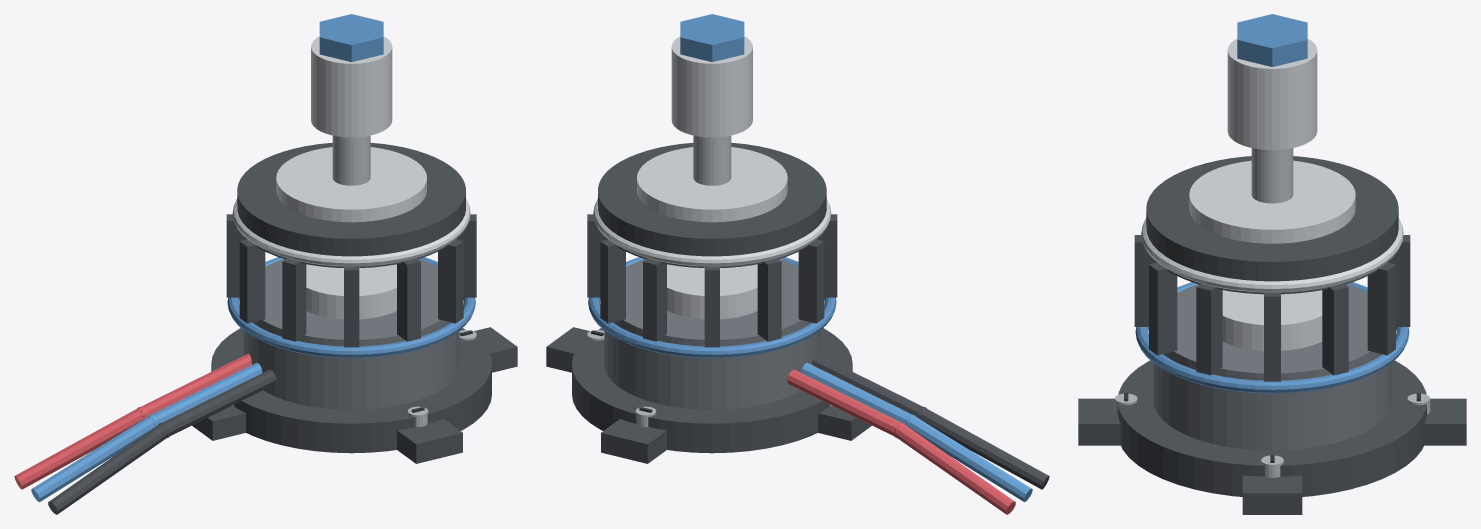
File: motor_4008_500kv.glb
3 views of the same model, side by side, from view 1: azimuth 30°, elevation 25°; view 2: azimuth 150°, elevation 25°; view 3: azimuth 270°, elevation 25° (orthographic). The views are drawn at different scales.
Visible parts, largest first — view 1: stator_core, bell_top, mount_base, top_cap, prop_adapter, bearing_housing, bell_lower_ring, bell_upper_ring, prop_nut, phase_wire_0/seg_1, phase_wire_2/seg_1, phase_wire_1/seg_1 (+14 smaller); view 2: stator_core, bell_top, mount_base, top_cap, prop_adapter, bearing_housing, bell_lower_ring, bell_upper_ring, prop_nut, phase_wire_2/seg_1, phase_wire_0/seg_1, phase_wire_1/seg_1 (+14 smaller); view 3: stator_core, mount_base, bell_top, top_cap, prop_adapter, bearing_housing, bell_lower_ring, bell_upper_ring, prop_nut, bell_pillar_2, bell_pillar_10, ear_0 (+8 smaller).
Part boxes in pixels (x1=…): stator_core: x1=243, y1=259, x2=459, y2=409; bell_top: x1=237, y1=142, x2=465, y2=267; mount_base: x1=211, y1=328, x2=491, y2=453; top_cap: x1=276, y1=147, x2=426, y2=222; prop_adapter: x1=311, y1=36, x2=392, y2=137; bearing_housing: x1=306, y1=264, x2=396, y2=319; bell_lower_ring: x1=227, y1=257, x2=475, y2=358; bell_upper_ring: x1=232, y1=198, x2=470, y2=266; prop_nut: x1=319, y1=14, x2=383, y2=62; phase_wire_0/seg_1: x1=14, y1=408, x2=144, y2=489; phase_wire_2/seg_1: x1=48, y1=424, x2=167, y2=514; phase_wire_1/seg_1: x1=31, y1=416, x2=155, y2=502; stator_core: x1=604, y1=259, x2=820, y2=409; bell_top: x1=598, y1=142, x2=826, y2=267; mount_base: x1=572, y1=328, x2=852, y2=453; top_cap: x1=637, y1=147, x2=787, y2=222; prop_adapter: x1=671, y1=36, x2=752, y2=137; bearing_housing: x1=667, y1=264, x2=757, y2=319; bell_lower_ring: x1=588, y1=257, x2=836, y2=358; bell_upper_ring: x1=593, y1=198, x2=831, y2=266; prop_nut: x1=680, y1=14, x2=744, y2=62; phase_wire_2/seg_1: x1=919, y1=408, x2=1049, y2=489; phase_wire_0/seg_1: x1=896, y1=424, x2=1015, y2=514; phase_wire_1/seg_1: x1=908, y1=416, x2=1032, y2=502; stator_core: x1=1153, y1=284, x2=1391, y2=450; mount_base: x1=1118, y1=360, x2=1426, y2=496; bell_top: x1=1146, y1=156, x2=1398, y2=294; top_cap: x1=1189, y1=160, x2=1355, y2=243; prop_adapter: x1=1227, y1=38, x2=1317, y2=150; bearing_housing: x1=1222, y1=290, x2=1322, y2=350; bell_lower_ring: x1=1135, y1=282, x2=1409, y2=393; bell_upper_ring: x1=1141, y1=217, x2=1403, y2=292; prop_nut: x1=1237, y1=14, x2=1307, y2=66; bell_pillar_2: x1=1149, y1=262, x2=1177, y2=355; bell_pillar_10: x1=1367, y1=262, x2=1395, y2=355; ear_0: x1=1242, y1=475, x2=1302, y2=514.
Size of the model in its own units: 0.1003 by 0.0805 by 0.065.
